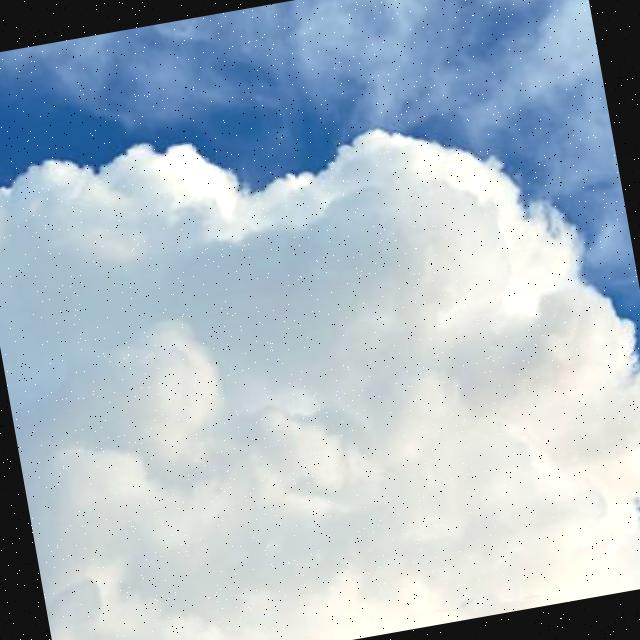Cu: (1, 36, 640, 640)
